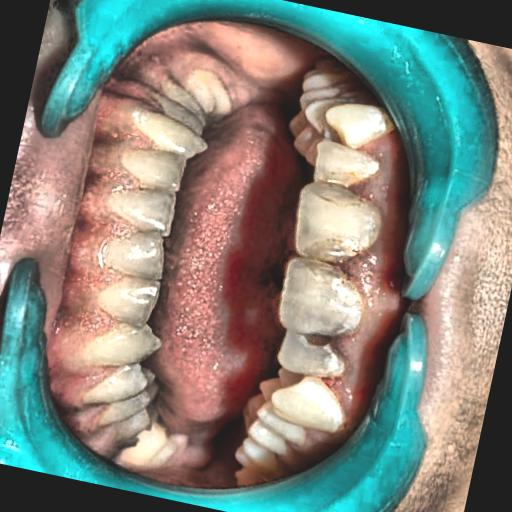Caries: (286, 310, 350, 363)
